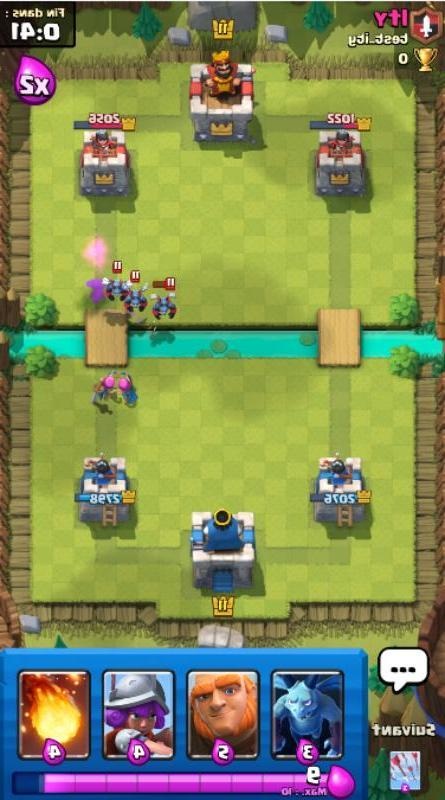enemy_minions: (147, 289, 180, 320), (120, 283, 151, 315), (101, 271, 131, 301)
player_archers: (88, 370, 118, 405), (114, 371, 140, 406)
